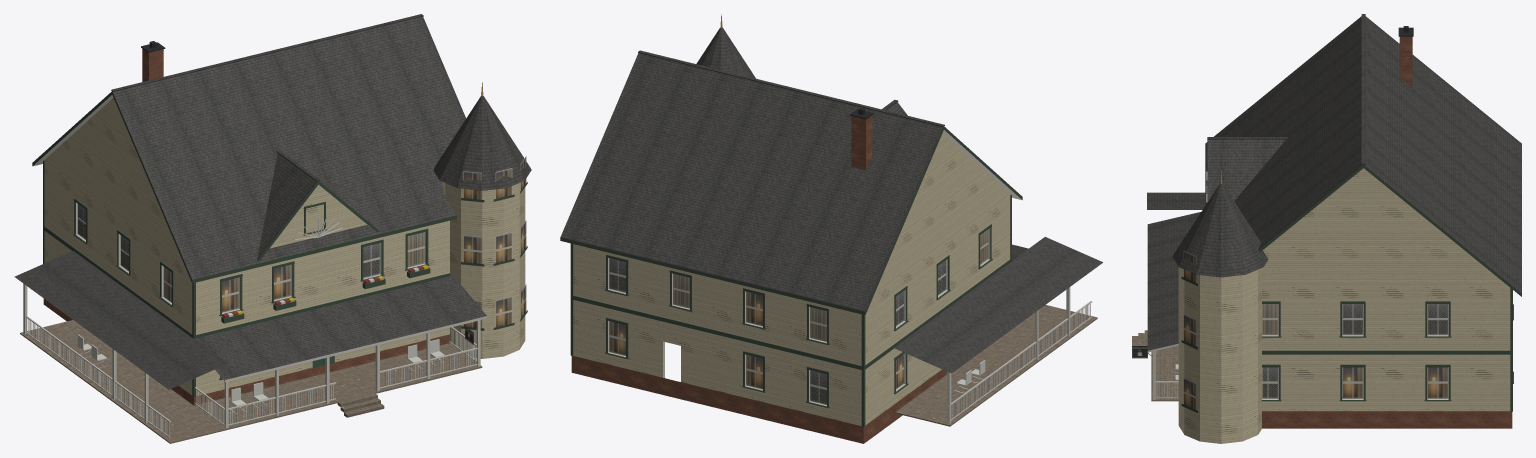
File: town_inn.gltf
The picture shows the model from 3 angles, left to right: view 1: azimuth 30°, elevation 25°; view 2: azimuth 150°, elevation 25°; view 3: azimuth 270°, elevation 25°; orthographic projection.
Parts seen in each view (by area): view 1: TownInn_Roof, TownInn_Walls, TownInn_Deck, TownInn_Turret, TownInn_Window, TownInn_Railing, TownInn_TurretRoof, TownInn_Trim, TownInn_Fascia, TownInn_Foundation, TownInn_Posts, TownInn_Ridge (+5 smaller); view 2: TownInn_Roof, TownInn_Walls, TownInn_Deck, TownInn_Foundation, TownInn_Trim, TownInn_Window, TownInn_Railing, TownInn_Fascia, TownInn_TurretRoof, TownInn_Ridge, TownInn_Chimney, TownInn_Reveals (+1 smaller); view 3: TownInn_Roof, TownInn_Walls, TownInn_Turret, TownInn_TurretRoof, TownInn_Window, TownInn_Foundation, TownInn_Trim, TownInn_Deck, TownInn_Fascia, TownInn_Ridge, TownInn_Chimney.
Part boxes in pixels (x1,y1,x2,y2): TownInn_Roof: (14,16,486,389); TownInn_Walls: (43,98,449,395); TownInn_Deck: (20,320,482,443); TownInn_Turret: (442,181,525,358); TownInn_Window: (77,156,526,328); TownInn_Railing: (25,315,477,437); TownInn_TurretRoof: (433,96,531,190); TownInn_Trim: (43,160,527,396); TownInn_Fascia: (32,91,486,381); TownInn_Foundation: (43,298,449,405); TownInn_Posts: (23,283,480,428); TownInn_Ridge: (111,14,423,181); TownInn_Roof: (560,53,1102,373); TownInn_Walls: (573,133,1011,425); TownInn_Deck: (895,305,1097,426); TownInn_Foundation: (571,356,947,443); TownInn_Trim: (570,194,1011,426); TownInn_Window: (609,229,988,405); TownInn_Railing: (947,301,1092,422); TownInn_Fascia: (560,126,1022,314); TownInn_TurretRoof: (696,27,755,78); TownInn_Ridge: (638,50,944,127); TownInn_Chimney: (851,115,872,170); TownInn_Reveals: (608,228,990,406); TownInn_Roof: (1147,16,1521,350); TownInn_Walls: (1262,168,1510,411); TownInn_Turret: (1178,267,1262,443); TownInn_TurretRoof: (1172,183,1268,277); TownInn_Window: (1183,251,1448,410); TownInn_Foundation: (1262,411,1512,428); TownInn_Trim: (1152,277,1513,412); TownInn_Deck: (1151,345,1178,401); TownInn_Fascia: (1147,164,1521,352); TownInn_Ridge: (1207,14,1365,164); TownInn_Chimney: (1399,36,1412,87).
Size of what is drawn, in the model's own units: 21.2 by 14.8 by 18.35.
2 materials, 2 textured.
